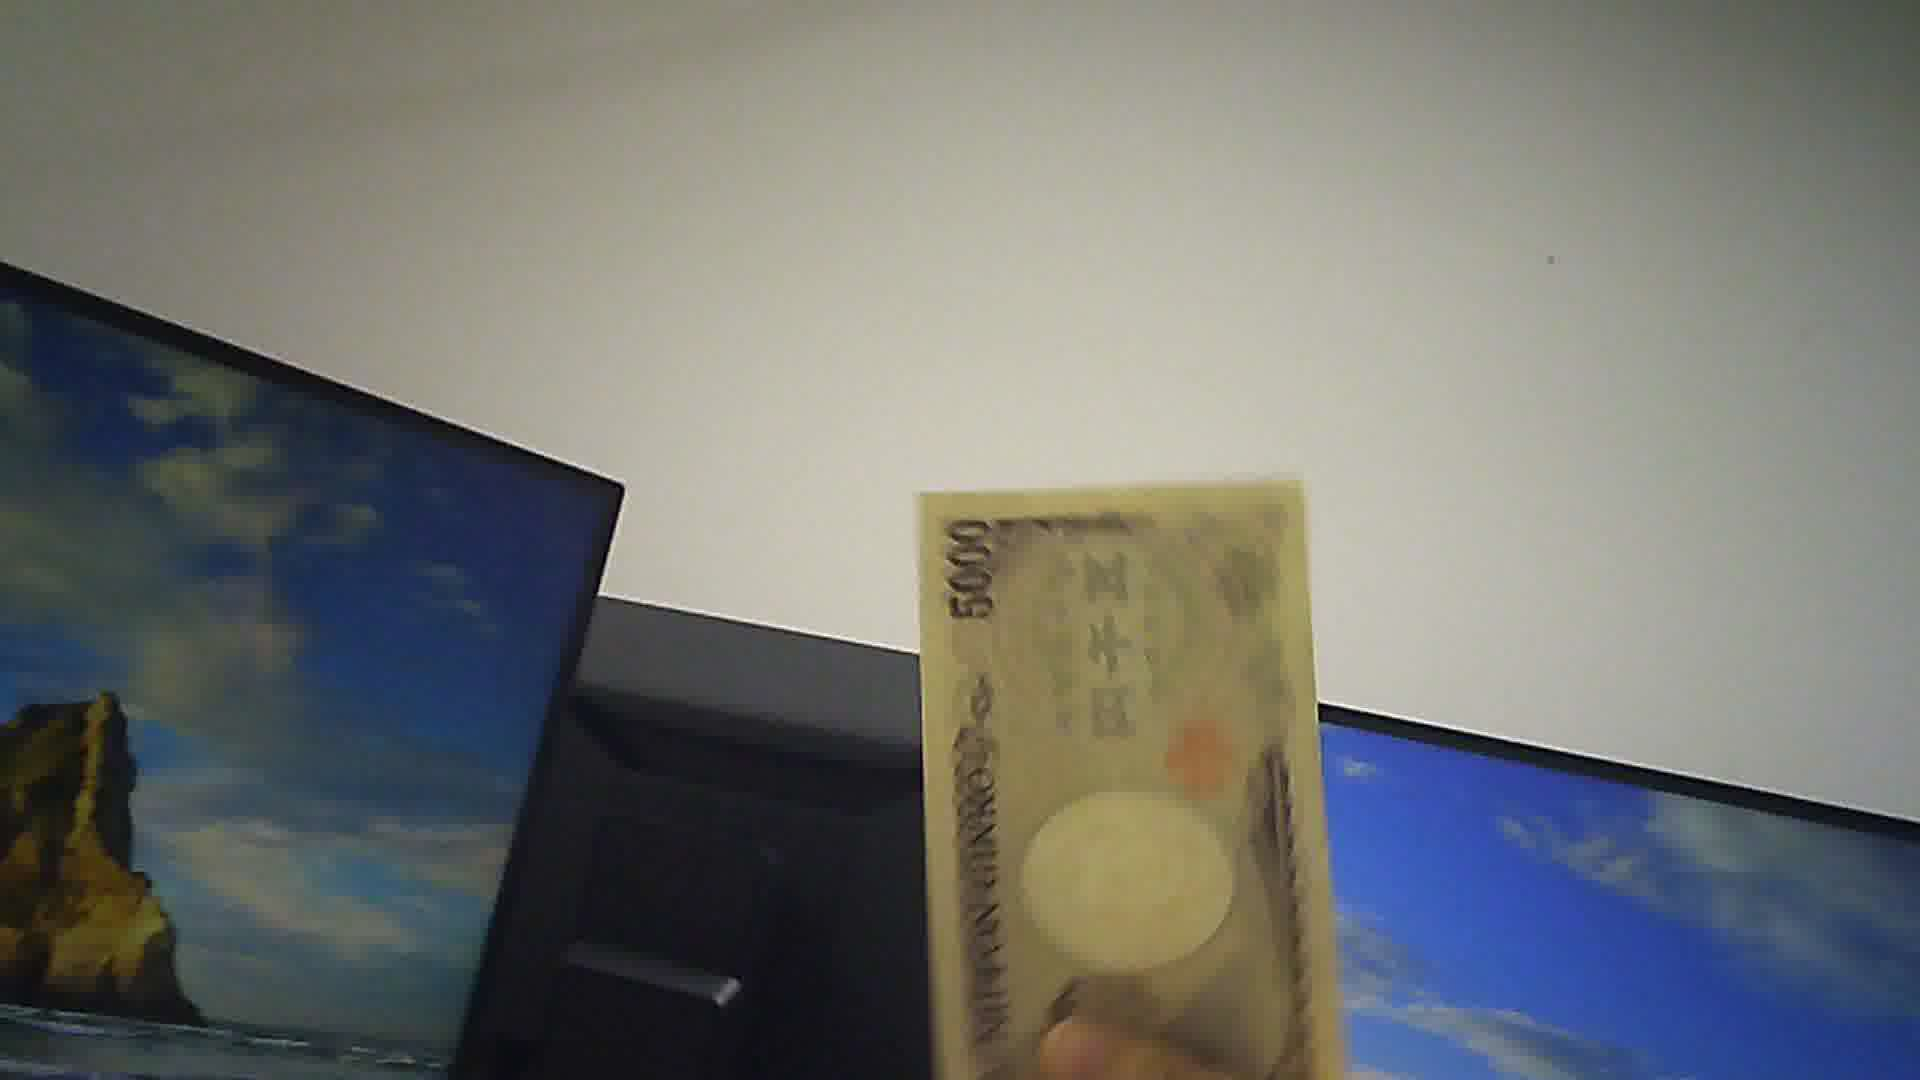5,000 Yen: (909, 473, 1349, 1079)
